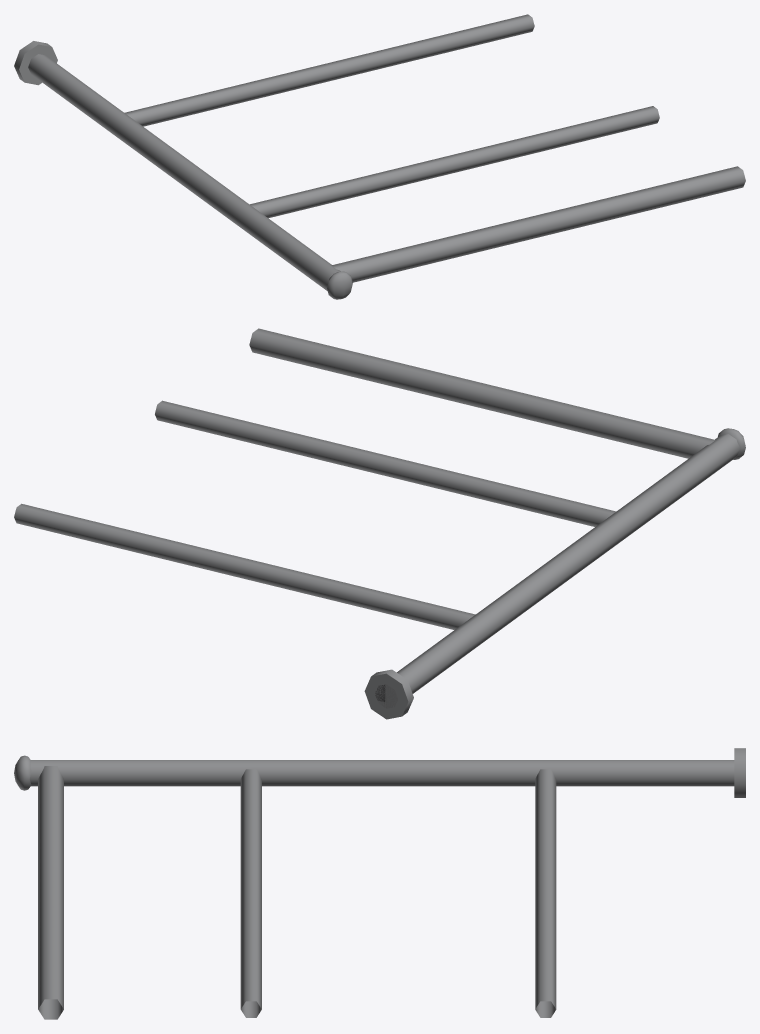
3 views of the same model, one above another, from view 1: azimuth 30°, elevation 25°; view 2: azimuth 150°, elevation 25°; view 3: azimuth 270°, elevation 25° (orthographic). The views are drawn at different scales.
Size of the model in its own units: 0.995 by 0.09 by 1.24.
